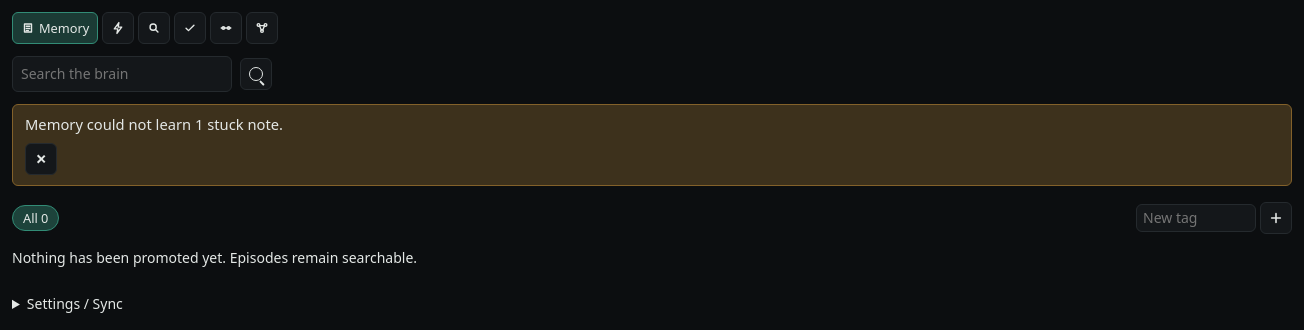
BrainMapView › lets the owner dismiss a quarantined episode from the behind banner
Expected: the element with test id "memory-behind" reads "Memory could not learn 1 stuck note.", 25,114 -> 283,134
Step 1. Click the button named "Dismiss stuck note episode-m-999428" → [41, 159], box 25,143 -> 57,175
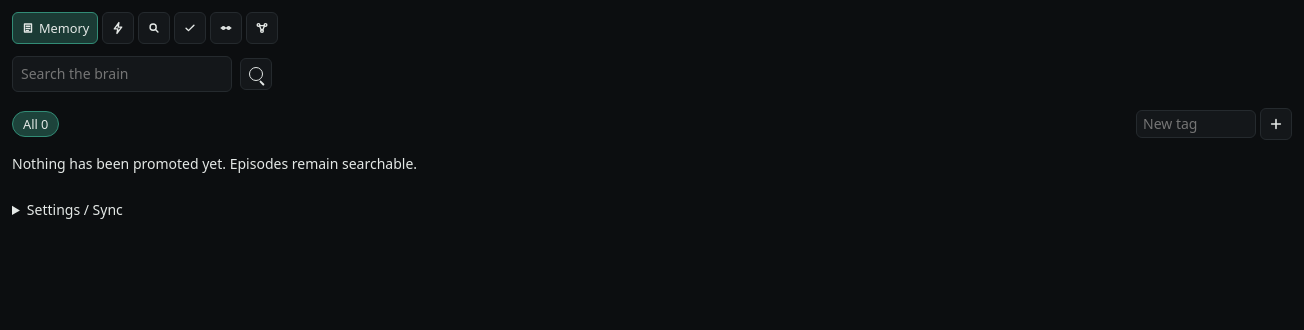
Expected: the element with test id "memory-behind" is gone
